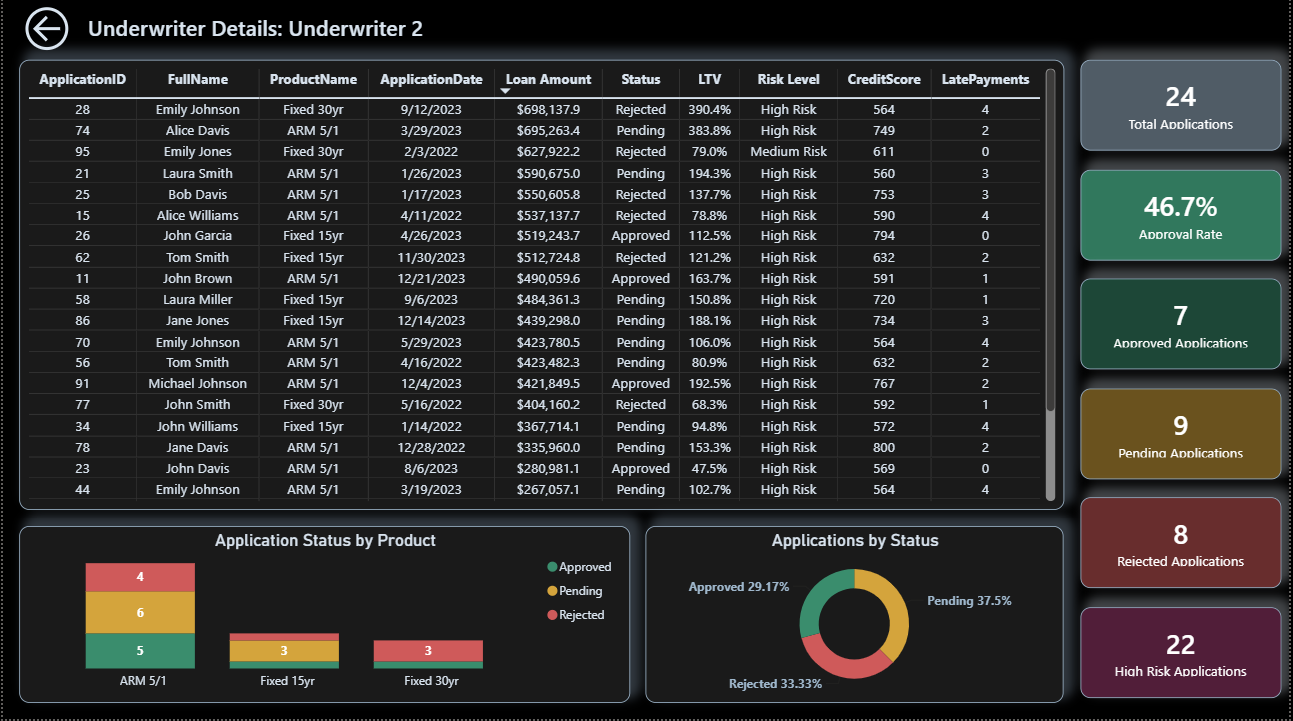

What the dashboard file says about the page in this screenshot:
{"tool":"powerbi","page":{"name":"Underwriter Details","canvas":[1280,720],"ordinal":5},"visuals":[{"type":"cardVisual","fields":{"Data":["_Measures.Total Applications"]},"box":[1072,64,200,90],"z":0},{"type":"cardVisual","fields":{"Data":["_Measures.Approval Rate"]},"box":[1072,172.8,200,90],"z":1000},{"type":"cardVisual","fields":{"Data":["_Measures.Pending Applications"]},"box":[1072,390.4,200,90],"z":2000},{"type":"columnChart","title":"Application Status by Product","fields":{"Category":["DimProducts.ProductName"],"Series":["FactApplications.Status"],"Y":["_Measures.Total Applications"]},"box":[16,528,608,176],"z":3000},{"type":"tableEx","title":"Monthly Requested Amount","fields":{"Values":["FactApplications.ApplicationID","DimApplicants.FullName","DimProducts.ProductName","FactApplications.ApplicationDate","Sum(FactApplications.LoanAmount)","FactApplications.Status","FactApplications.LTV","FactApplications.Risk Level","DimApplicants.CreditScore","DimApplicants.LatePayments"]},"box":[16,64,1040,448],"z":4000},{"type":"donutChart","title":"Applications by Status","fields":{"Category":["FactApplications.Status"],"Y":["_Measures.Total Applications"]},"box":[640,528,416,176],"z":5000},{"type":"cardVisual","fields":{"Data":["_Measures.Rejected Applications"]},"box":[1072,499.2,200,90],"z":6000},{"type":"cardVisual","fields":{"Data":["_Measures.Approved Applications"]},"box":[1072,281.6,200,90],"z":7000},{"type":"cardVisual","fields":{"Data":["_Measures.High Risk Applications"]},"box":[1072,608,200,90],"z":8000},{"type":"actionButton","box":[16,5,64,55],"z":9000},{"type":"cardVisual","fields":{"Data":["_Measures.Selected Underwriter Title"]},"box":[80,5,416,50],"z":10000}]}

Visuals, with their boxes in screenshot pixels (x1, y1, x2, y2), scaled from the page's 1280x720 canvas onto the 1293x721 screenshot:
cardVisual - _Measures.Total Applications: [left=1083, top=64, right=1285, bottom=154]
cardVisual - _Measures.Approval Rate: [left=1083, top=173, right=1285, bottom=263]
cardVisual - _Measures.Pending Applications: [left=1083, top=391, right=1285, bottom=481]
"Application Status by Product" columnChart: [left=16, top=529, right=630, bottom=705]
"Monthly Requested Amount" tableEx: [left=16, top=64, right=1067, bottom=513]
"Applications by Status" donutChart: [left=646, top=529, right=1067, bottom=705]
cardVisual - _Measures.Rejected Applications: [left=1083, top=500, right=1285, bottom=590]
cardVisual - _Measures.Approved Applications: [left=1083, top=282, right=1285, bottom=372]
cardVisual - _Measures.High Risk Applications: [left=1083, top=609, right=1285, bottom=699]
actionButton: [left=16, top=5, right=81, bottom=60]
cardVisual - _Measures.Selected Underwriter Title: [left=81, top=5, right=501, bottom=55]
